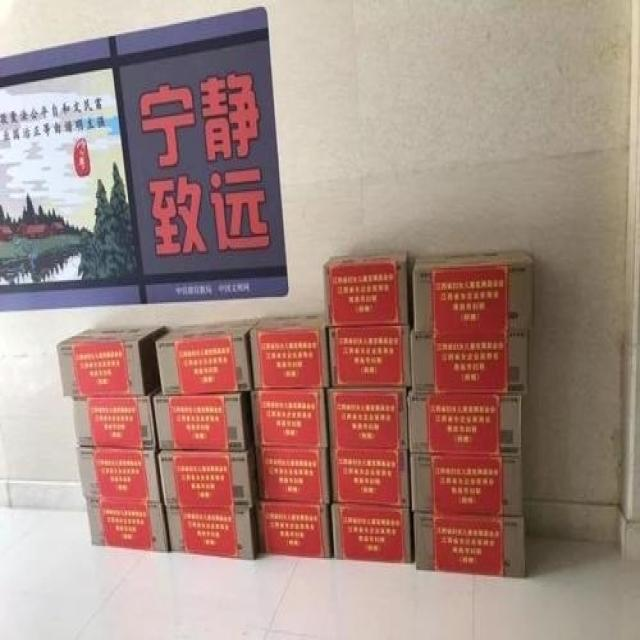box: (412, 251, 531, 333), (56, 326, 175, 398), (156, 316, 262, 396), (411, 452, 525, 517), (411, 333, 530, 394), (413, 514, 525, 577), (408, 393, 521, 454), (156, 445, 259, 510), (324, 253, 411, 328), (154, 391, 255, 452), (251, 316, 330, 389), (73, 387, 163, 447), (328, 386, 410, 451), (164, 505, 259, 560), (326, 326, 413, 386), (251, 387, 333, 447), (332, 447, 413, 507), (333, 502, 415, 561), (77, 449, 164, 503), (257, 500, 334, 560), (255, 444, 333, 502), (86, 500, 168, 550)
